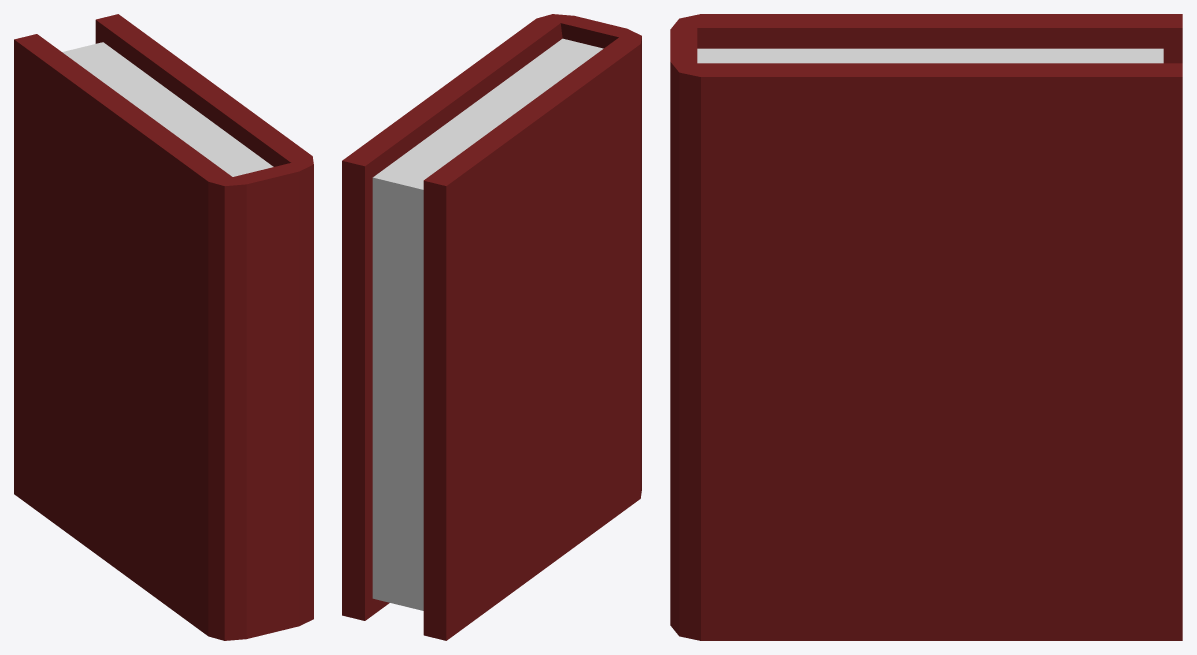
File: Book_Small.obj
The picture shows the model from 3 angles, left to right: view 1: azimuth 30°, elevation 25°; view 2: azimuth 150°, elevation 25°; view 3: azimuth 270°, elevation 25°; orthographic projection. The views are drawn at different scales.
Parts seen in each view (by area): view 1: Book_Small; view 2: Book_Small; view 3: Book_Small.
Part boxes in pixels (bbox=[...]): Book_Small: bbox=[14, 14, 313, 640]; Book_Small: bbox=[342, 14, 641, 640]; Book_Small: bbox=[670, 14, 1182, 640].
Size of the model in its own units: 0.0614 by 0.2556 by 0.2105.
